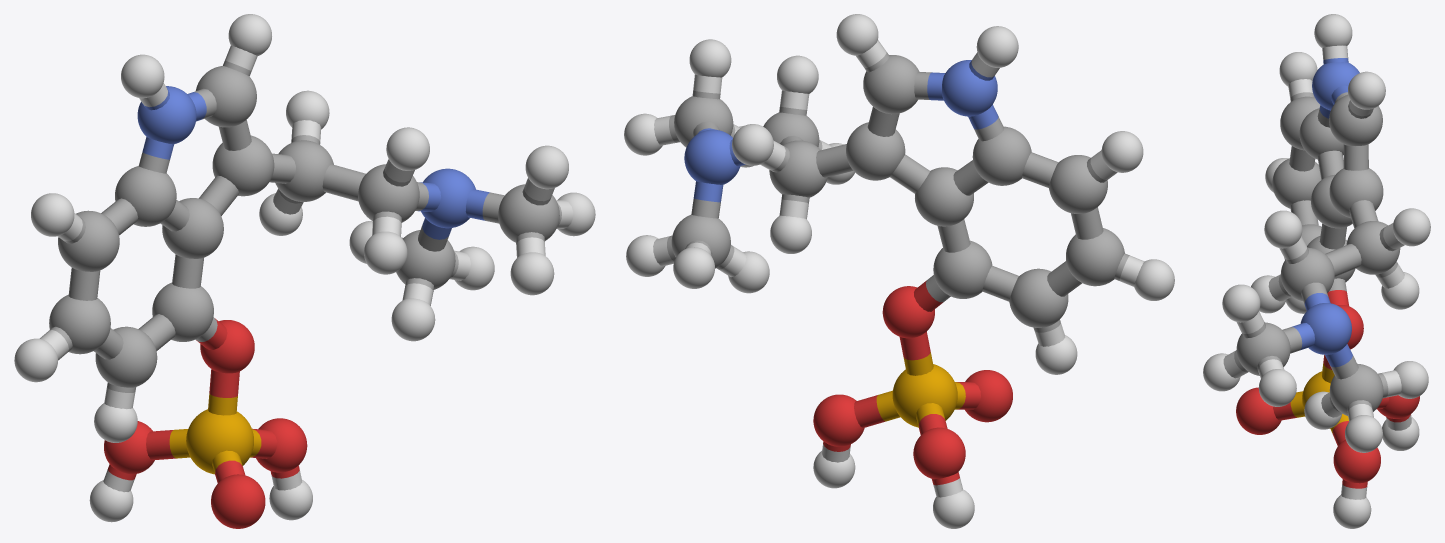
Rendered from Psilocybine-bas-color-print.glb.
The picture shows the model from 3 angles, left to right: view 1: azimuth 30°, elevation 25°; view 2: azimuth 150°, elevation 25°; view 3: azimuth 270°, elevation 25°; orthographic projection. The views are drawn at different scales.
Visible parts, largest first — view 1: atoms, bonds; view 2: atoms, bonds; view 3: atoms, bonds.
Boxes of the visible parts, x1,y1,x2,y2 form: atoms: (14,14,595,528); bonds: (39,45,573,492); atoms: (624,14,1174,528); bonds: (653,40,1144,497); atoms: (1203,14,1430,528); bonds: (1223,45,1411,499).
Size of the model in its own units: 10.89 by 9.25 by 4.31.
